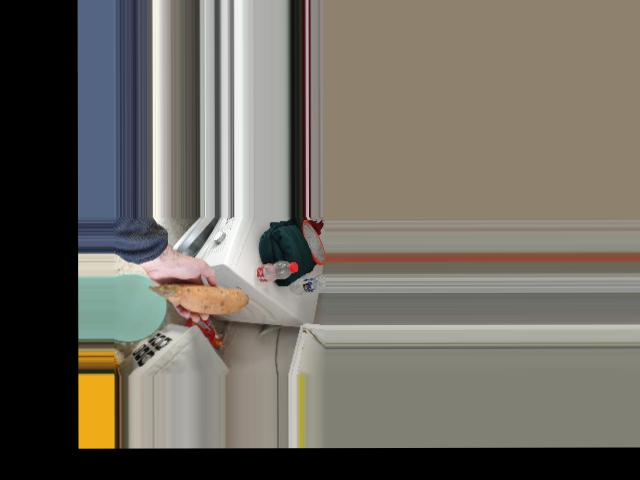sweet_potato: (163, 283, 246, 317)
